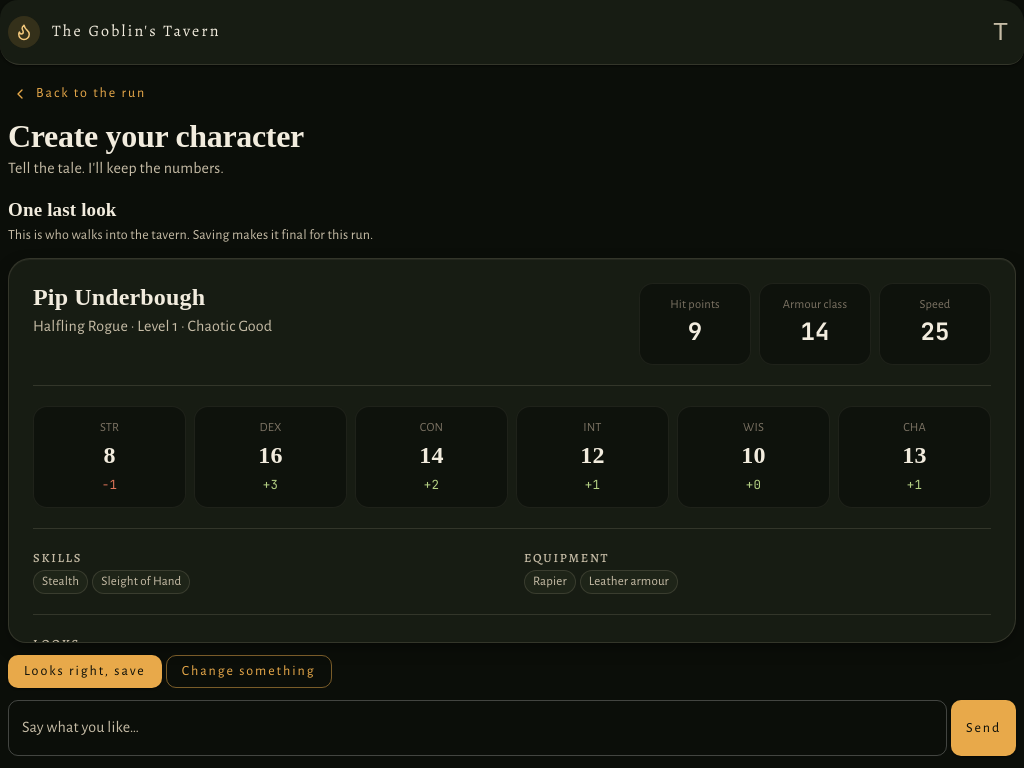
Test: CreationChatRoute's review and save (sprint 009-07, WI1, AC1-AC3, AC5-AC6) › AC5: an error:true reply to the save keeps the review on screen with the in-voice line
The width and height of the screenshot is (1024, 768).
Click the button "Looks right, save" at (85, 672), box [8, 655, 162, 688]
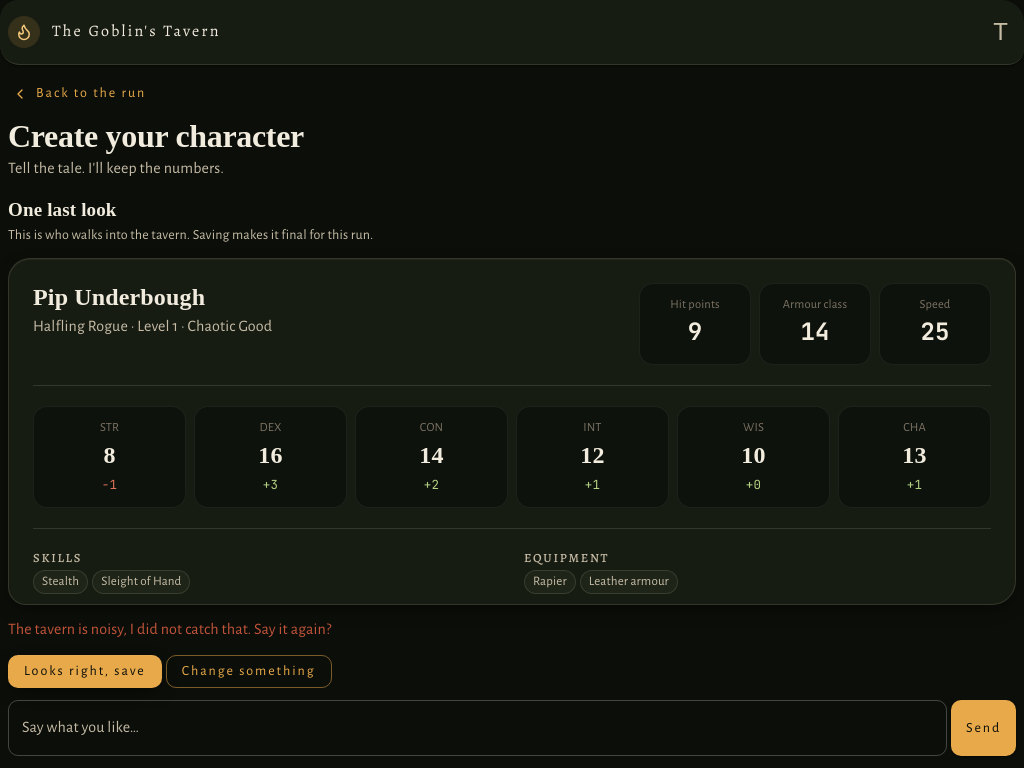
Result: the text "The tavern is noisy, I did not catch that. Say it again?" is shown at [8, 621, 331, 637]
